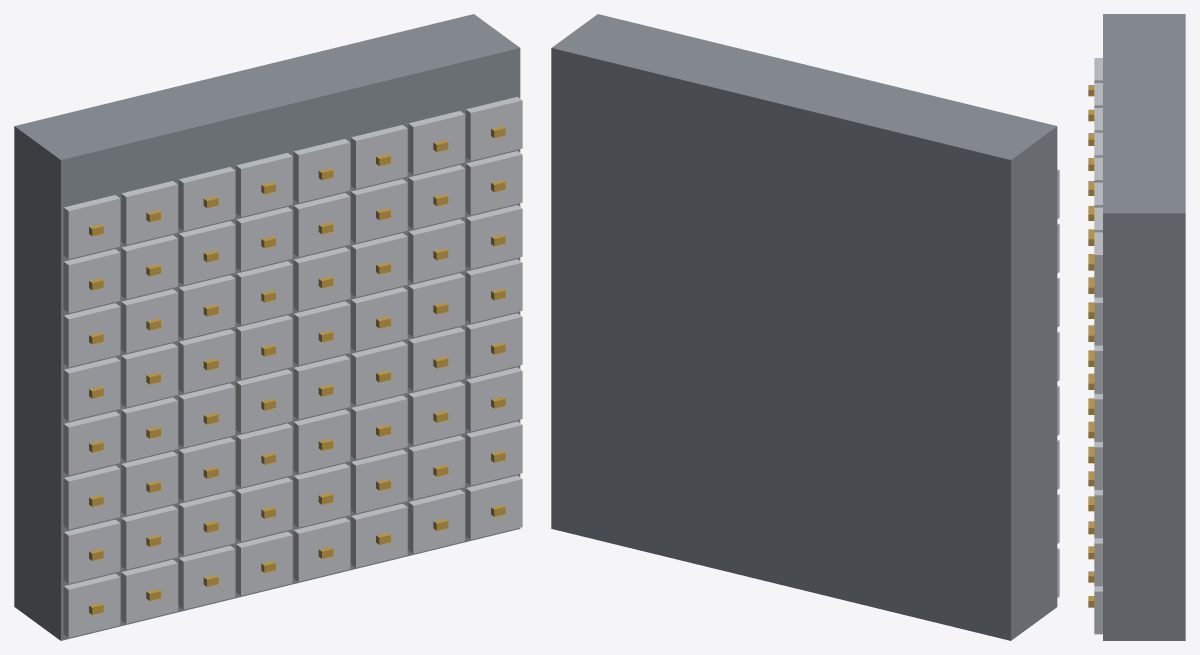
The model's file is DepositBoxes.fbx.
3 renders of one model, left to right at view 1: azimuth 30°, elevation 25°; view 2: azimuth 150°, elevation 25°; view 3: azimuth 270°, elevation 25°, orthographic. The views are drawn at different scales.
Parts seen in each view (by area): view 1: DepositBoxes; view 2: DepositBoxes; view 3: DepositBoxes.
Boxes of the visible parts, x1,y1,x2,y2 form: DepositBoxes: (14,14,522,640); DepositBoxes: (551,14,1059,640); DepositBoxes: (1088,14,1185,640).
Size of the model in its own units: 8 by 8 by 1.65.
1 material, 1 textured.
